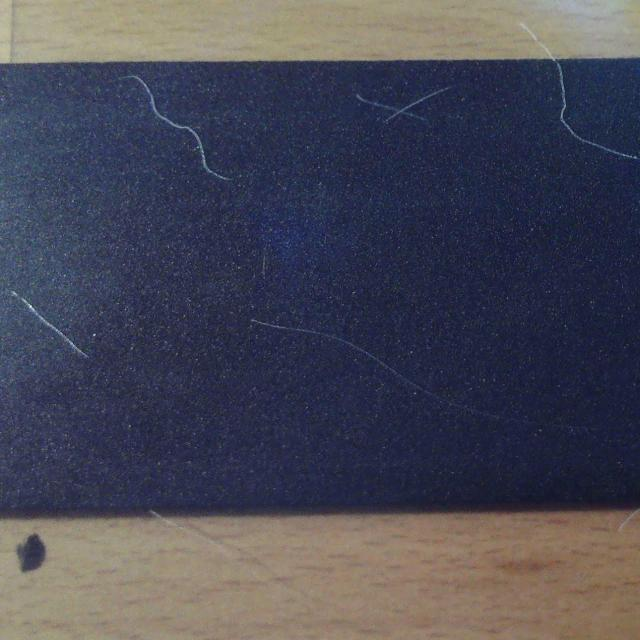defect: (250, 318, 504, 422), (125, 74, 234, 181), (550, 59, 639, 161), (2, 284, 87, 354), (355, 87, 451, 123)
